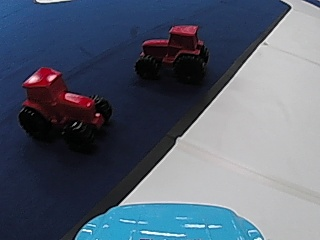tractor: (15, 64, 114, 148), (134, 22, 212, 83)
